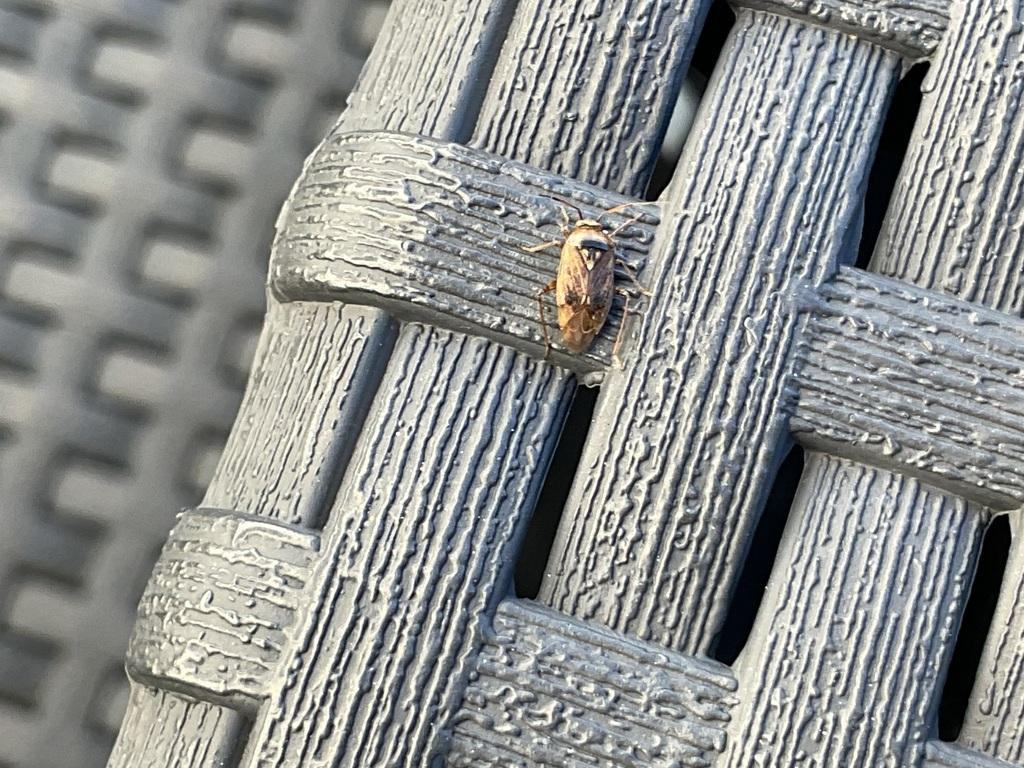plant_bugs: (491, 170, 669, 375)
